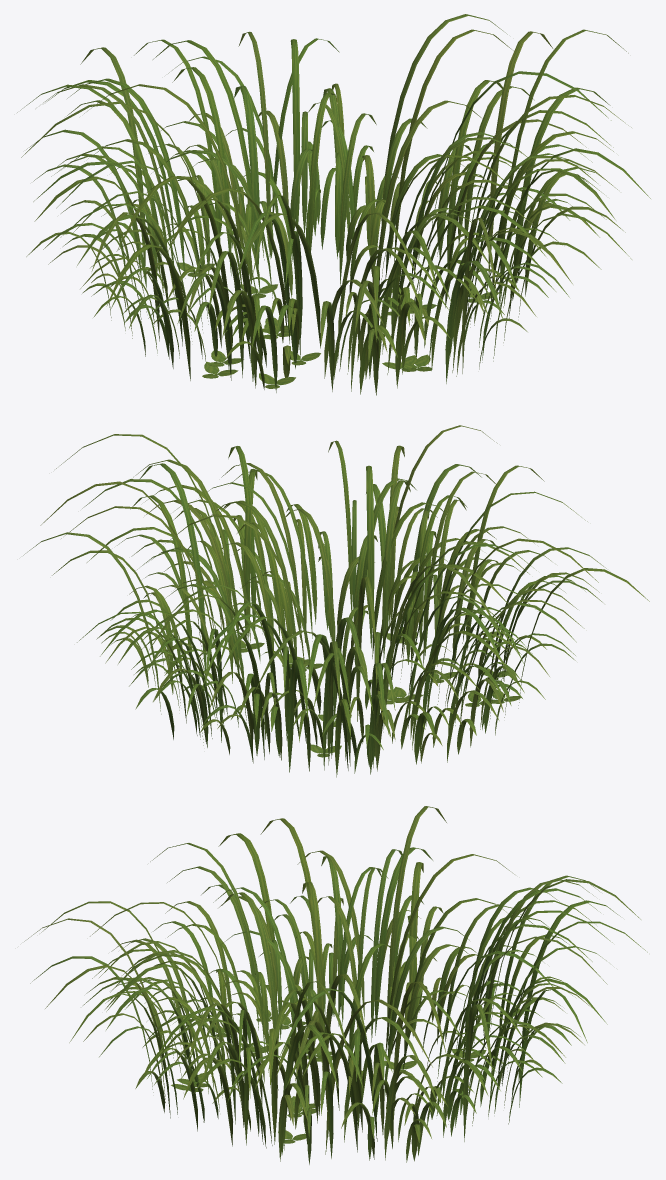
File: meadow.glb
3 views of the same model, one above another, from view 1: azimuth 30°, elevation 25°; view 2: azimuth 150°, elevation 25°; view 3: azimuth 270°, elevation 25° (orthographic). The views are drawn at different scales.
Visible parts, largest first — view 1: Foliage; view 2: Foliage; view 3: Foliage.
Boxes of the visible parts, x1,y1,x2,y2 form: Foliage: (17, 14, 650, 395); Foliage: (23, 425, 649, 777); Foliage: (24, 806, 647, 1164).
Size of the model in its own units: 1.97 by 0.72 by 2.
1 material, 1 textured.
